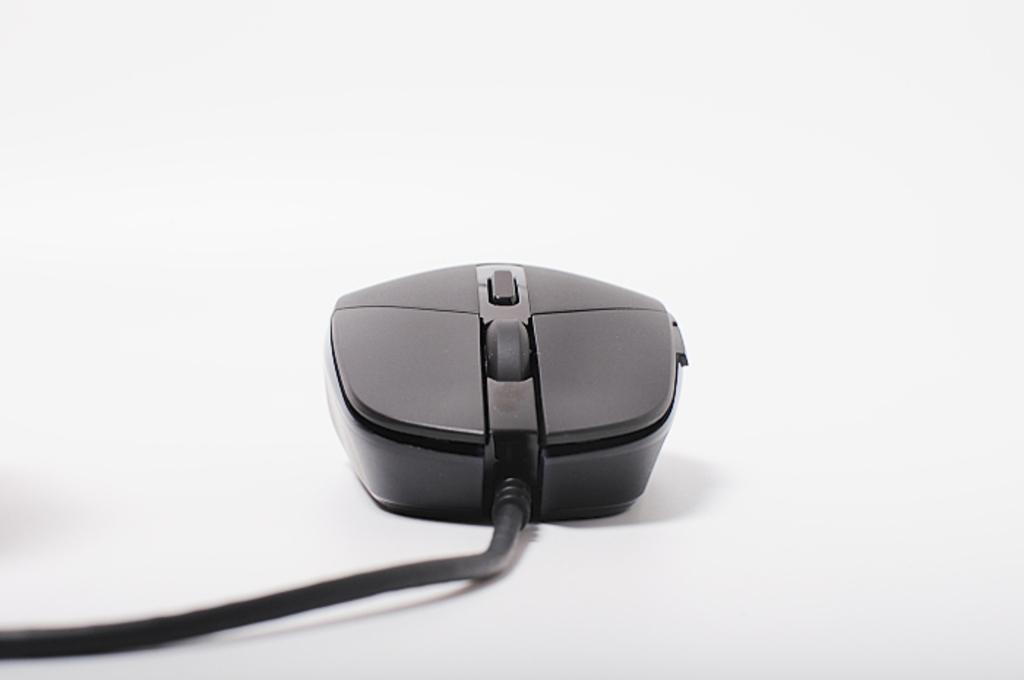Computer-mouse: (323, 260, 688, 521)
